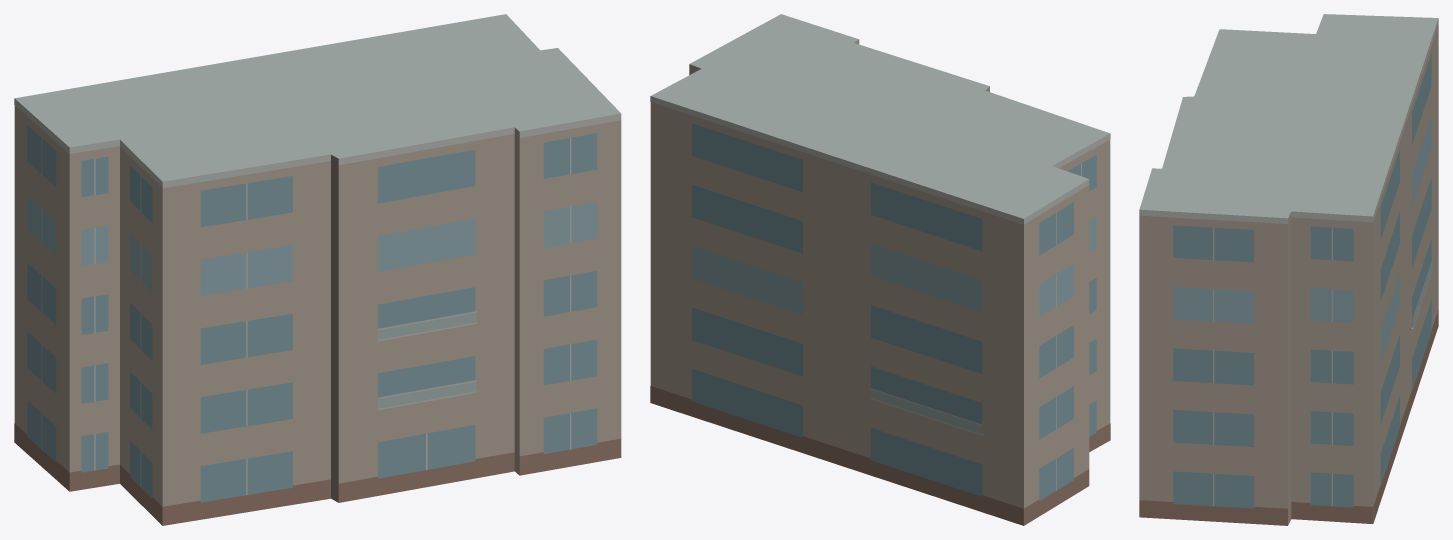
The model's file is survey-upis-33000160.glb.
3 views of the same model, side by side, from view 1: azimuth 30°, elevation 25°; view 2: azimuth 150°, elevation 25°; view 3: azimuth 270°, elevation 25° (orthographic). The views are drawn at different scales.
Visible parts, largest first — view 1: survey-upis-33000160.tmp; view 2: survey-upis-33000160.tmp; view 3: survey-upis-33000160.tmp.
Part boxes in pixels (bbox=[...]): survey-upis-33000160.tmp: bbox=[14, 14, 621, 525]; survey-upis-33000160.tmp: bbox=[650, 14, 1110, 525]; survey-upis-33000160.tmp: bbox=[1139, 14, 1438, 525].
Size of the model in its own units: 18.17 by 12.75 by 11.25.
